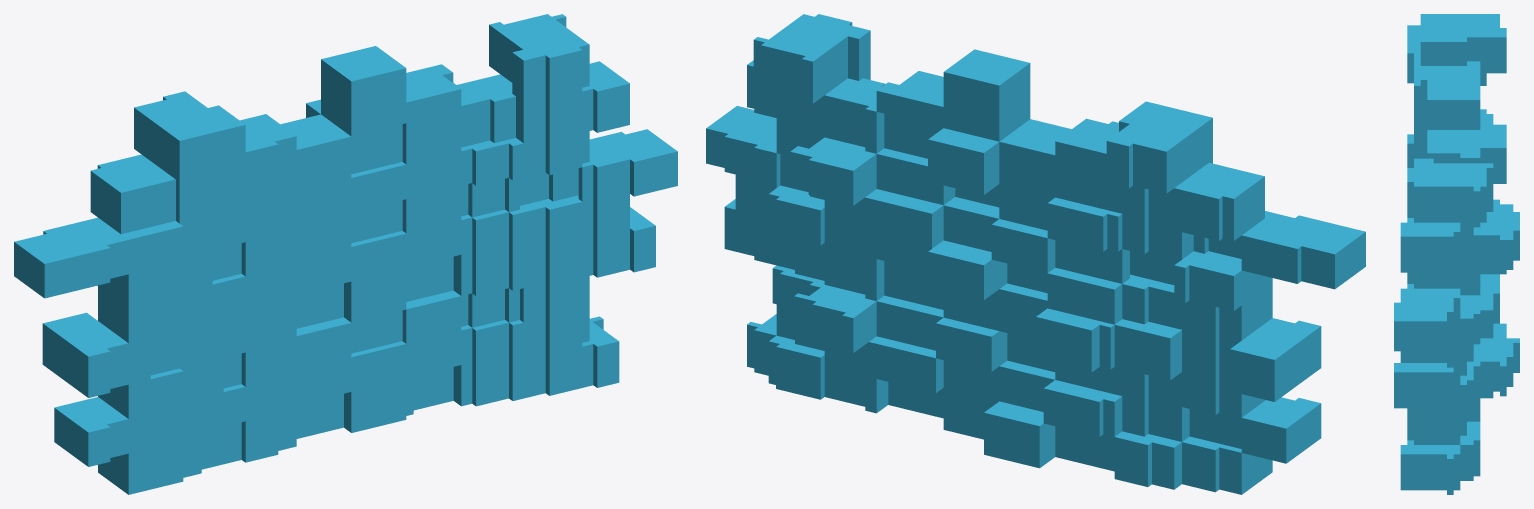
The model's file is MaXinGanShield.fbx.
3 renders of one model, left to right at view 1: azimuth 30°, elevation 25°; view 2: azimuth 150°, elevation 25°; view 3: azimuth 270°, elevation 25°, orthographic. The views are drawn at different scales.
Parts seen in each view (by area): view 1: Shield; view 2: Shield; view 3: Shield.
Boxes of the visible parts, x1,y1,x2,y2 form: Shield: (14,14,677,494); Shield: (706,14,1365,494); Shield: (1394,14,1519,494).
Size of the model in its own units: 447 by 240 by 89.39.
